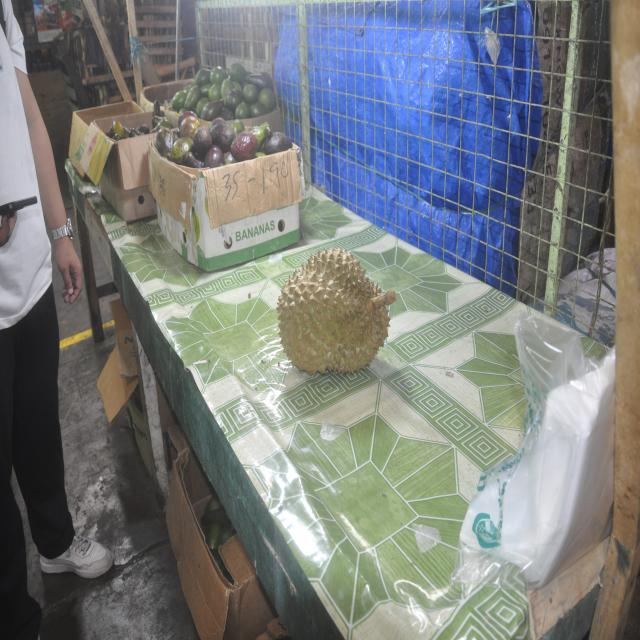mature: (277, 249, 396, 375)
